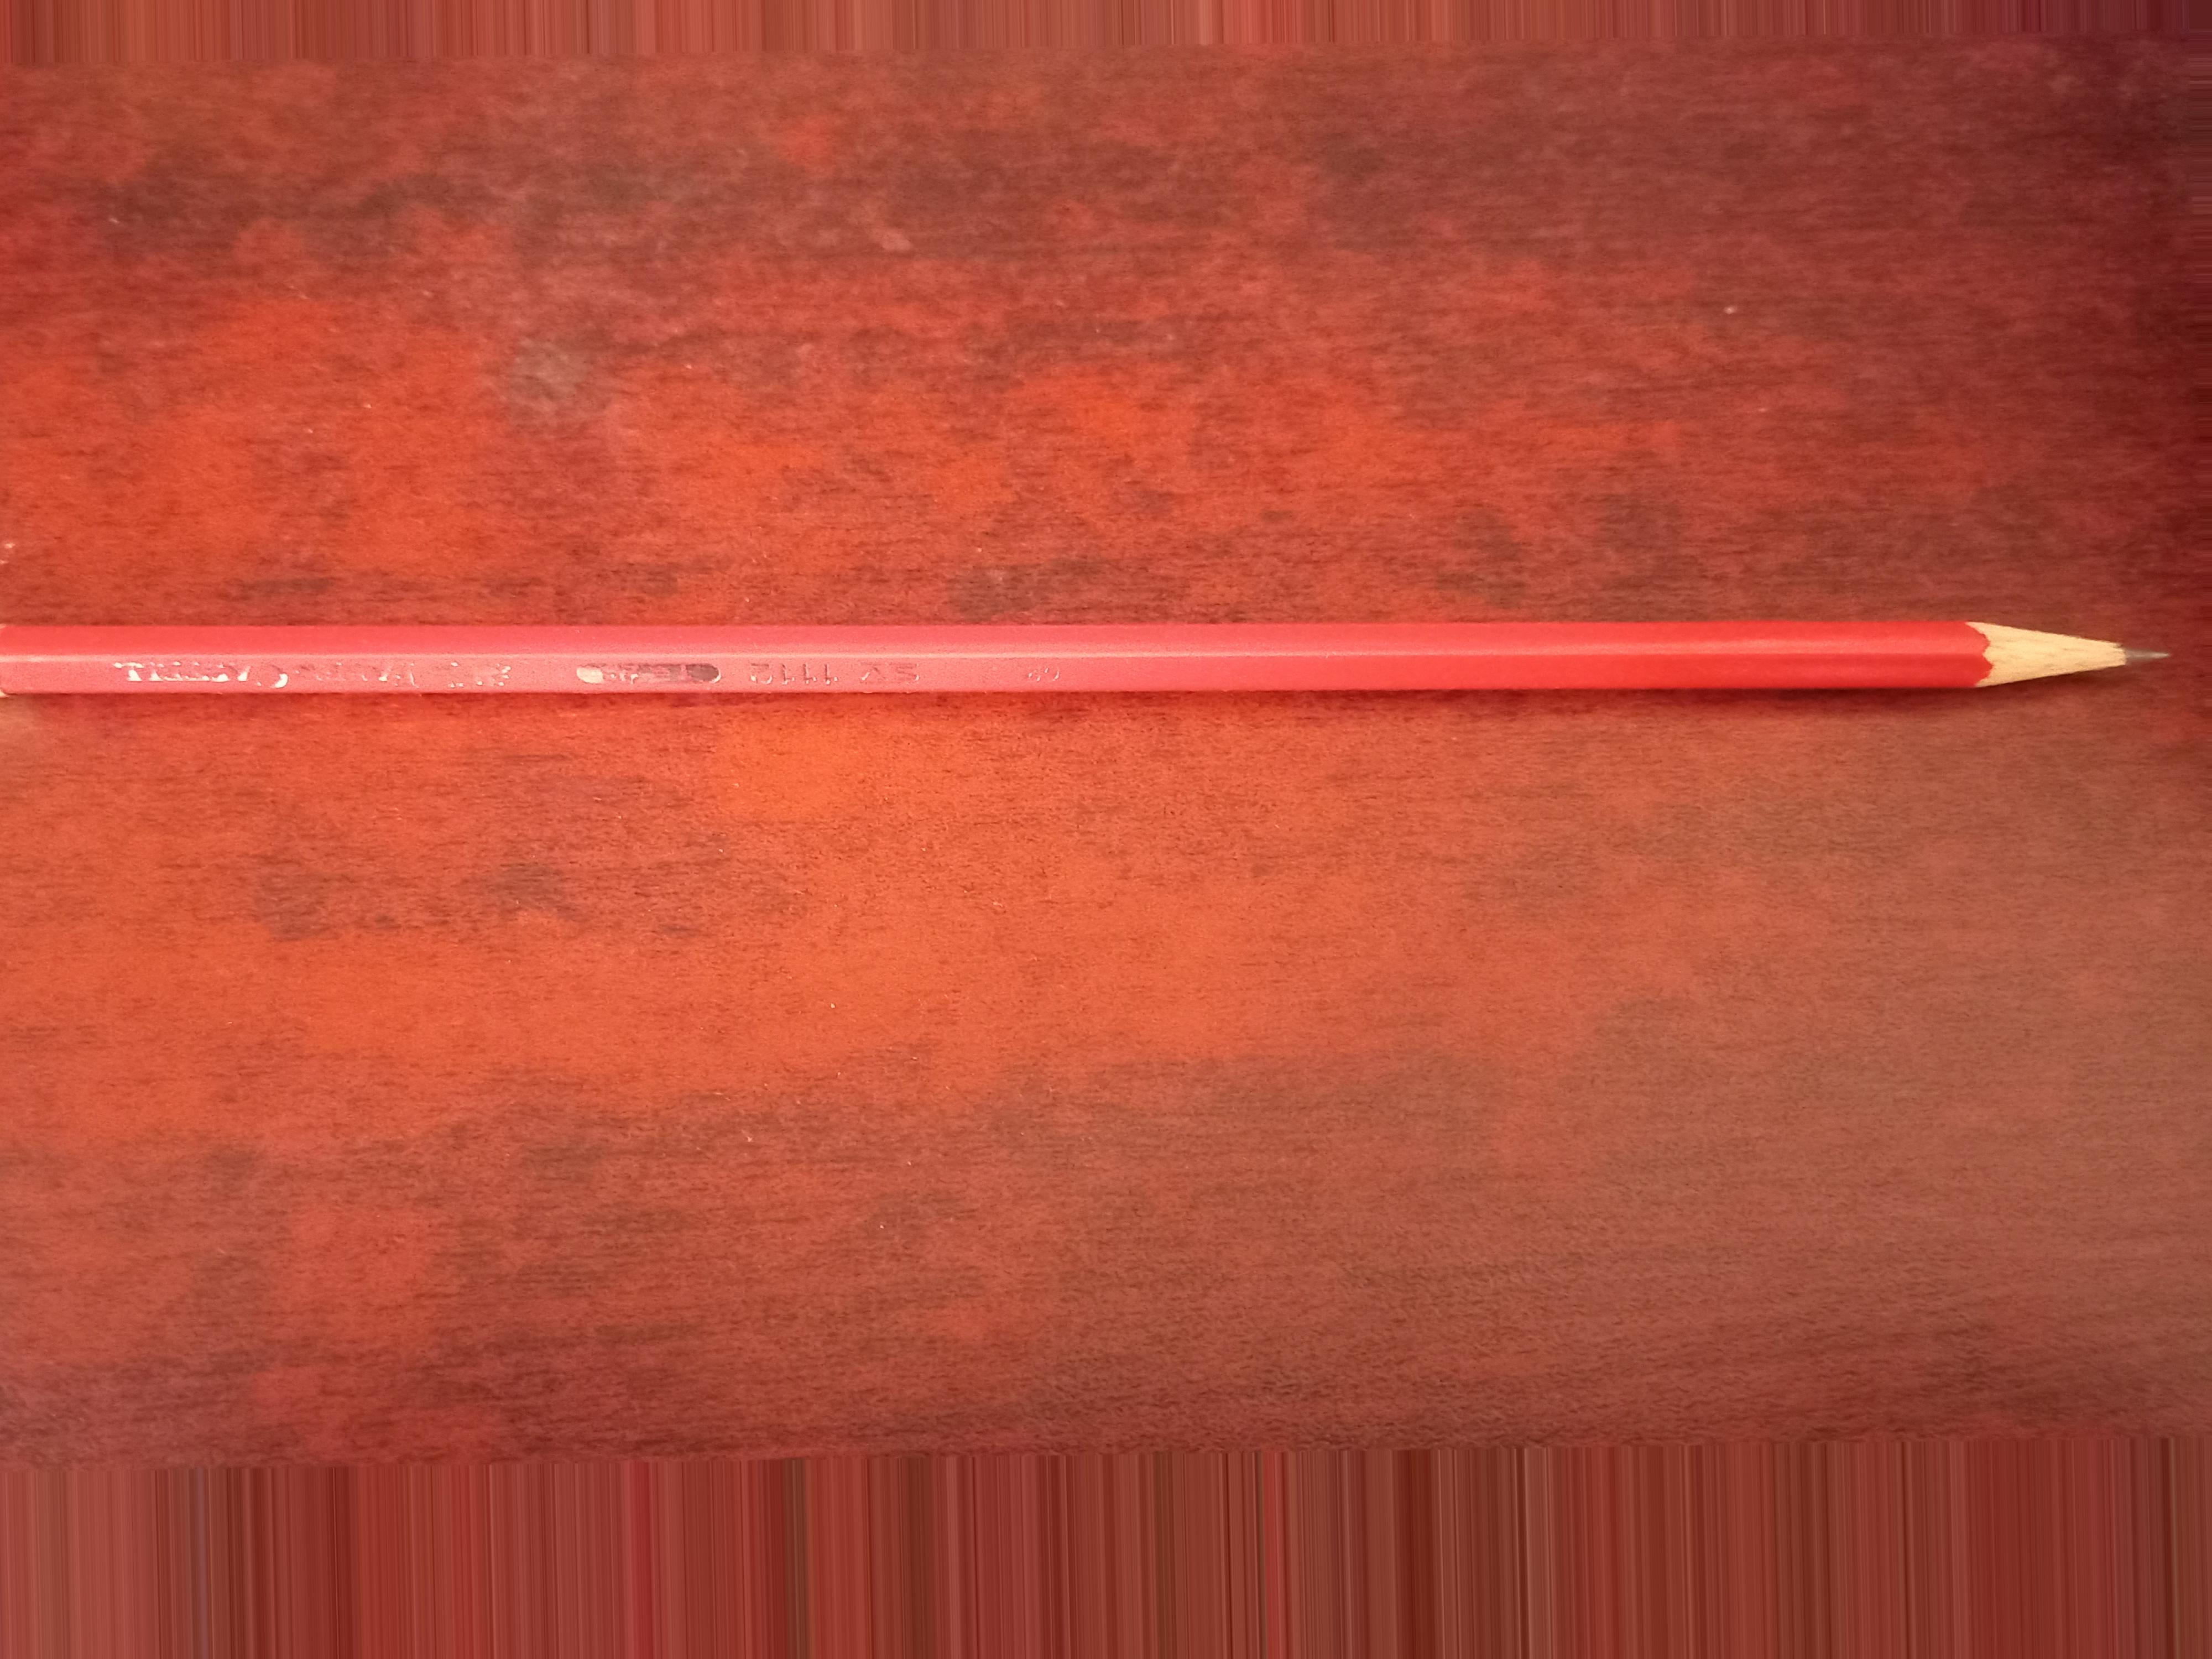pencil: (0, 589, 2193, 779)
